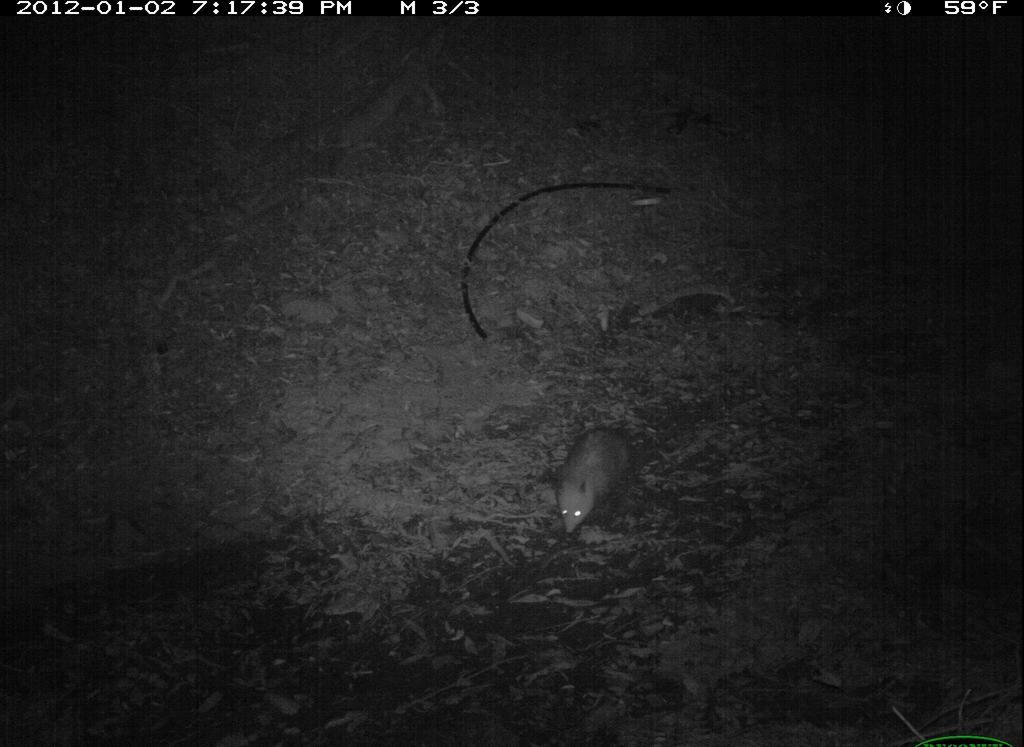opossum: (545, 418, 643, 541)
